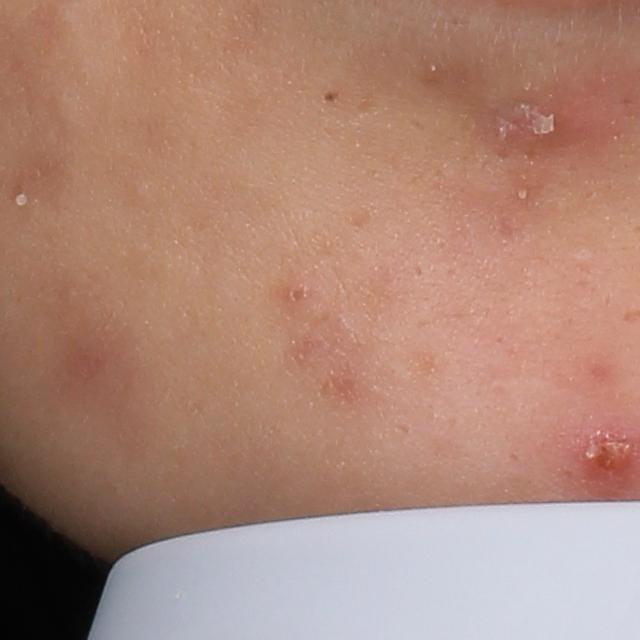comedo: (286, 282, 309, 306)
nevus: (320, 88, 343, 106)
